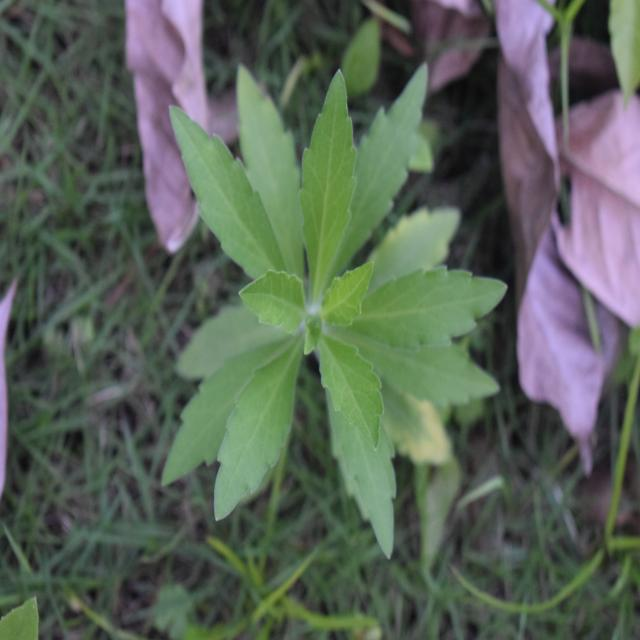horseweed: (182, 74, 499, 534)
